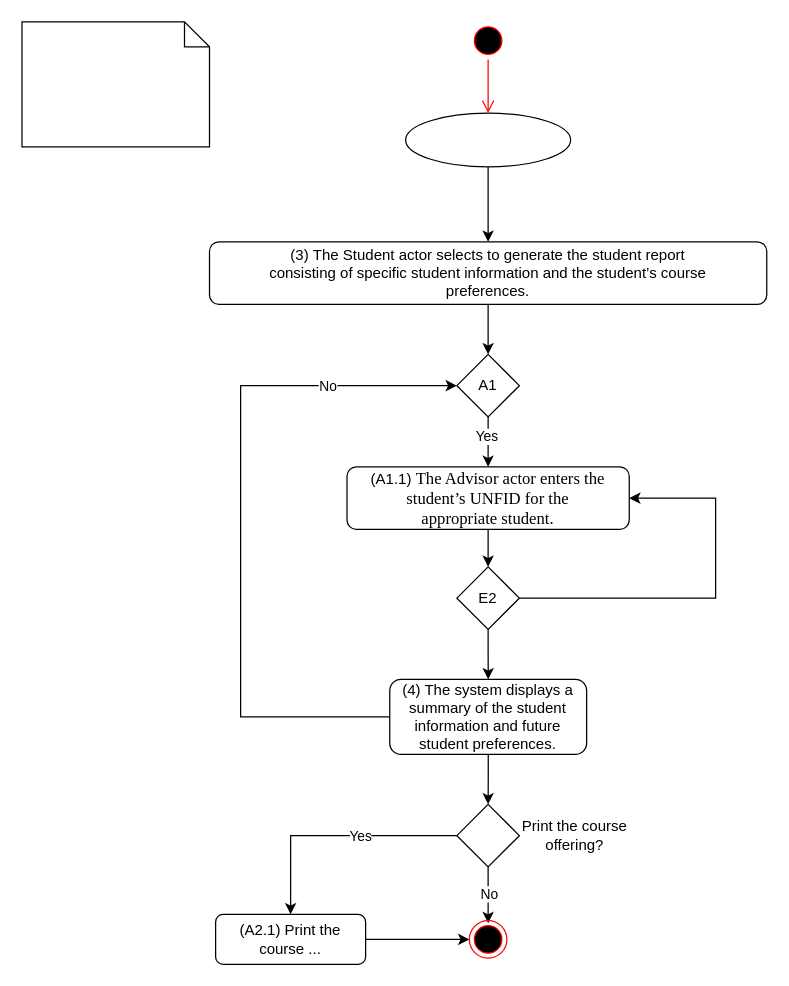
Image size: 789x986. Some labels were removed from this diagram. The shapes that lost their labels are listed below. From the top down, each one's centre as x and y in pixels, then its label:
At [115,84]: "Generate Student Report Activity Diagram".
At [487,139]: "(1,2) Perform Login Authentication".
At [487,835]: "A2".
